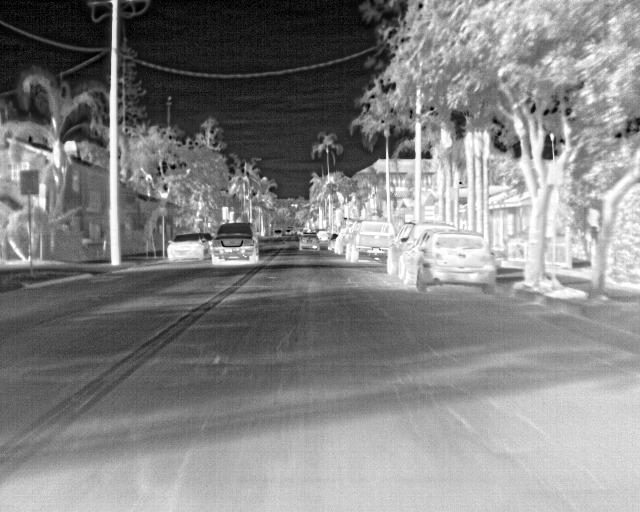car: (398, 229, 497, 294), (387, 220, 456, 280), (346, 220, 396, 262), (209, 222, 259, 262), (167, 233, 212, 261), (334, 228, 352, 254), (298, 233, 320, 250), (202, 233, 214, 249), (328, 233, 339, 250), (316, 230, 328, 241), (274, 230, 282, 237), (297, 228, 303, 235), (288, 227, 293, 234), (286, 230, 291, 236)
light: (337, 211, 342, 221)
sign: (21, 169, 40, 194), (548, 163, 563, 185), (222, 207, 228, 219), (449, 187, 454, 198), (372, 216, 379, 219), (337, 223, 340, 226)
